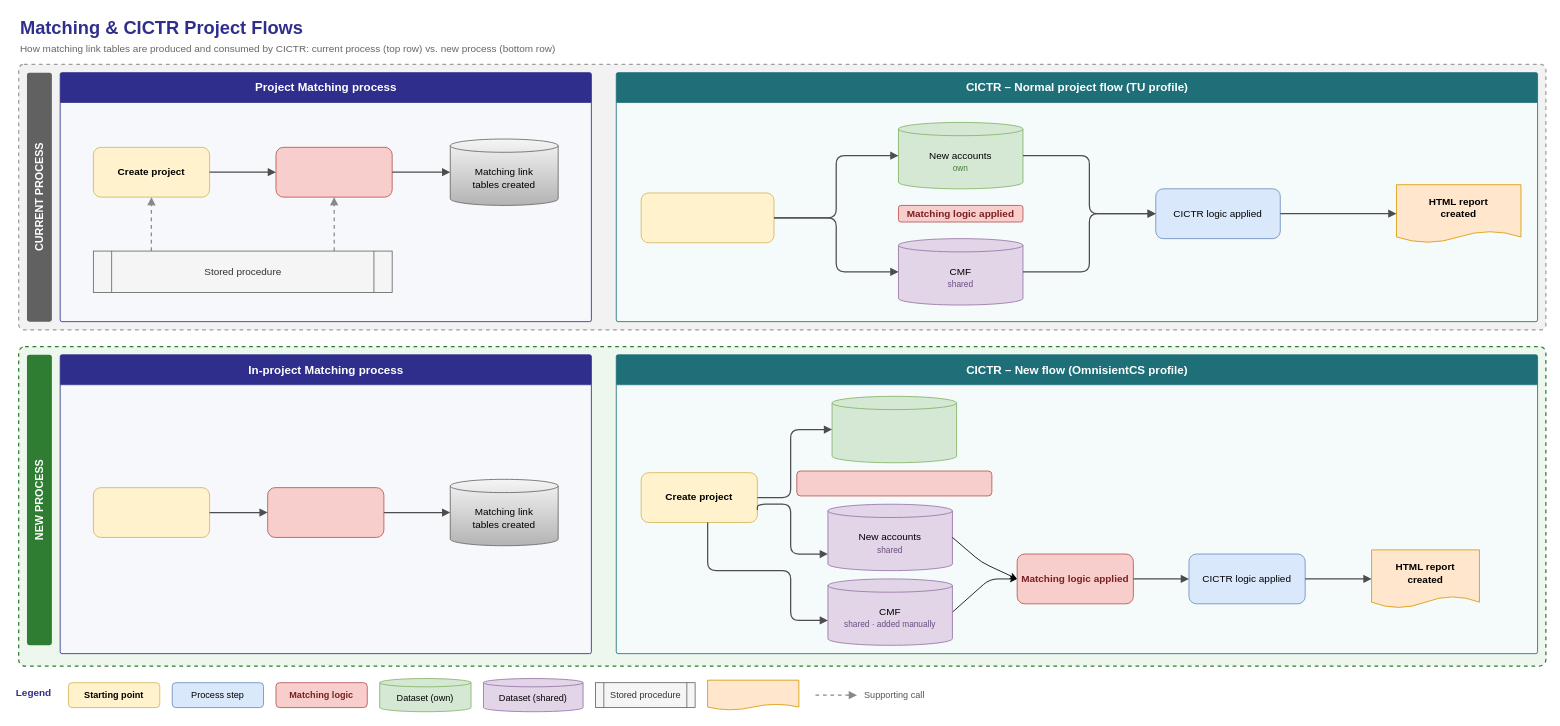
Some shapes in this 1560 by 726 pixel diagram are drawn without their labels. The shapes that lost their labels are listed below. From the top down, each one's centre as x and y in pixels, then its label:
At pixel 333 171: "Run matching logic".
At pixel 707 217: "Create project matching logic applied".
At pixel 894 429: "Universe dataset own".
At pixel 894 483: "Matching logic applied - No matches".
At pixel 151 512: "Project already exists".
At pixel 325 512: "Run matching logic on shared datasets in project".
At pixel 753 694: "Report output".
